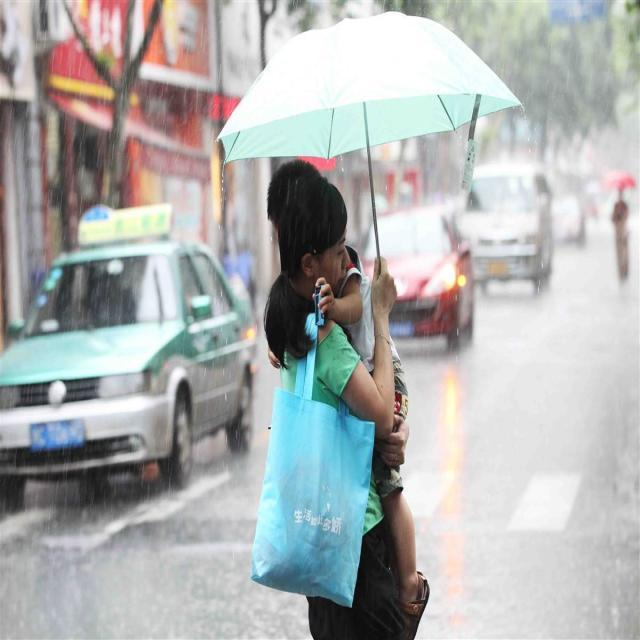car: (0, 201, 257, 505), (354, 208, 476, 346), (453, 164, 552, 292)
